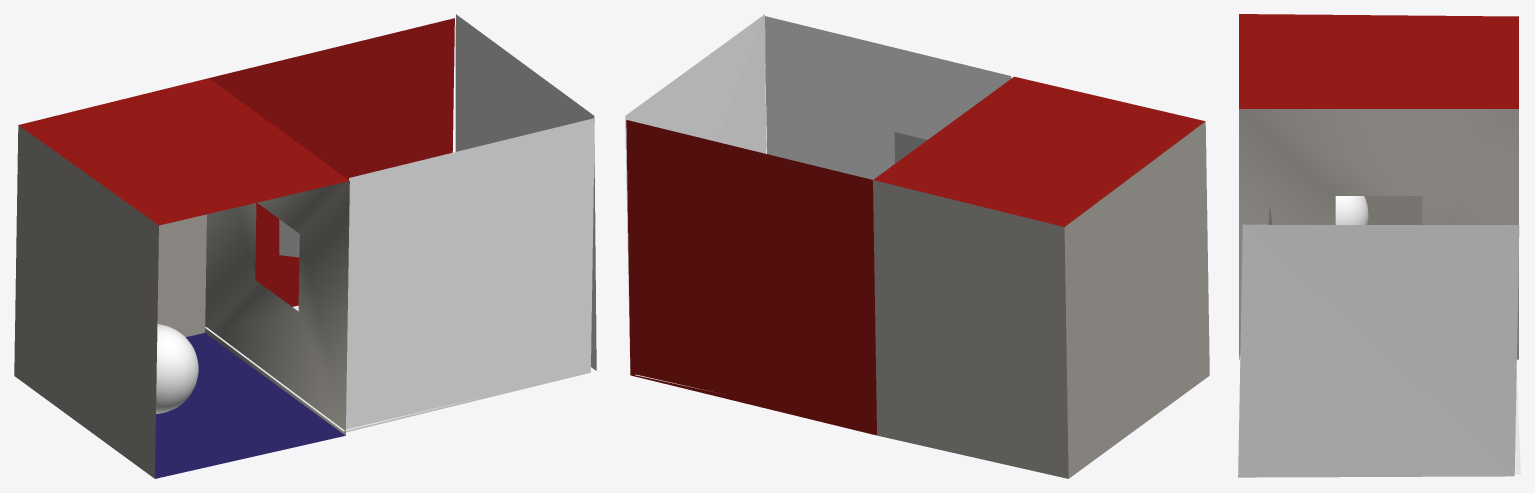
Rendered from inner_room_multi_light.obj.
3 renders of one model, left to right at view 1: azimuth 30°, elevation 25°; view 2: azimuth 150°, elevation 25°; view 3: azimuth 270°, elevation 25°, orthographic.
Parts seen in each view (by area): view 1: new_model; view 2: new_model; view 3: new_model.
Boxes of the visible parts, <box> form: new_model: <box>14,14,596,478</box>; new_model: <box>625,14,1209,478</box>; new_model: <box>1238,14,1520,477</box>.
Bounding box in the file's own units: 3.68 × 2.05 × 2.05.
